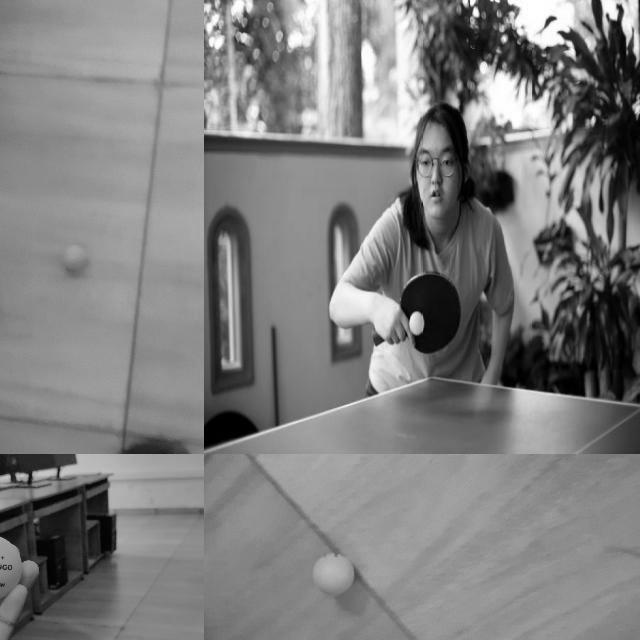ping-pong-ball: (312, 552, 354, 596), (0, 534, 22, 600), (61, 243, 85, 269), (409, 312, 424, 334)
